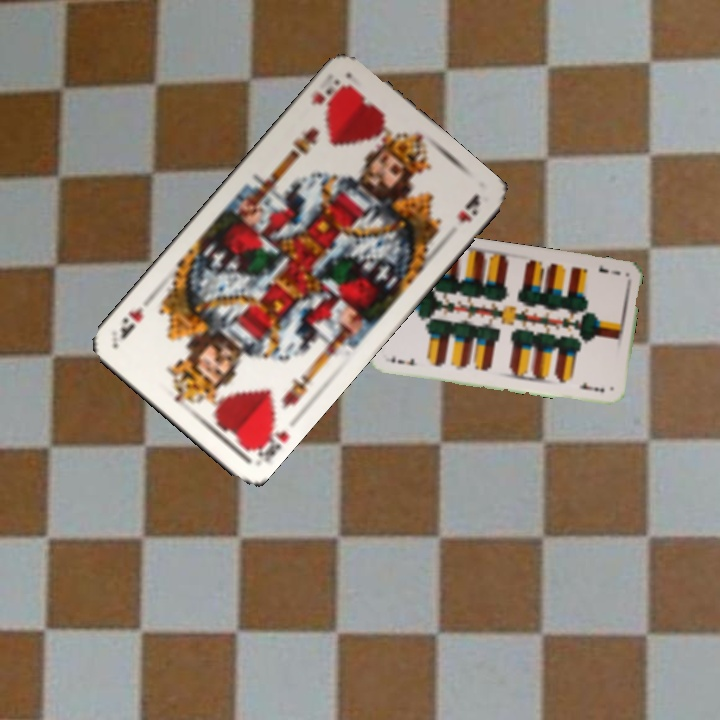E7: (386, 351, 420, 368), (594, 261, 622, 278)
HK: (245, 415, 292, 465), (306, 80, 351, 117)
